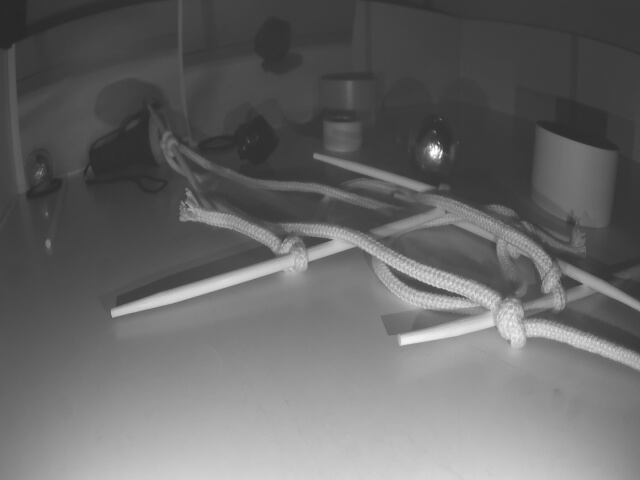Dead: (237, 117, 278, 166)
Live: (407, 113, 466, 182), (24, 149, 57, 192)
